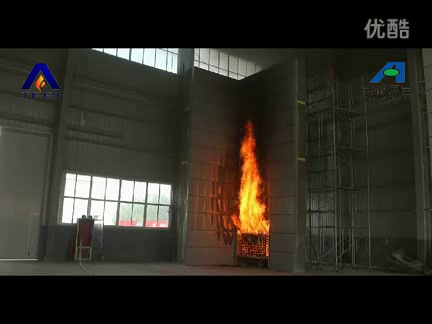fire: (235, 124, 266, 234)
